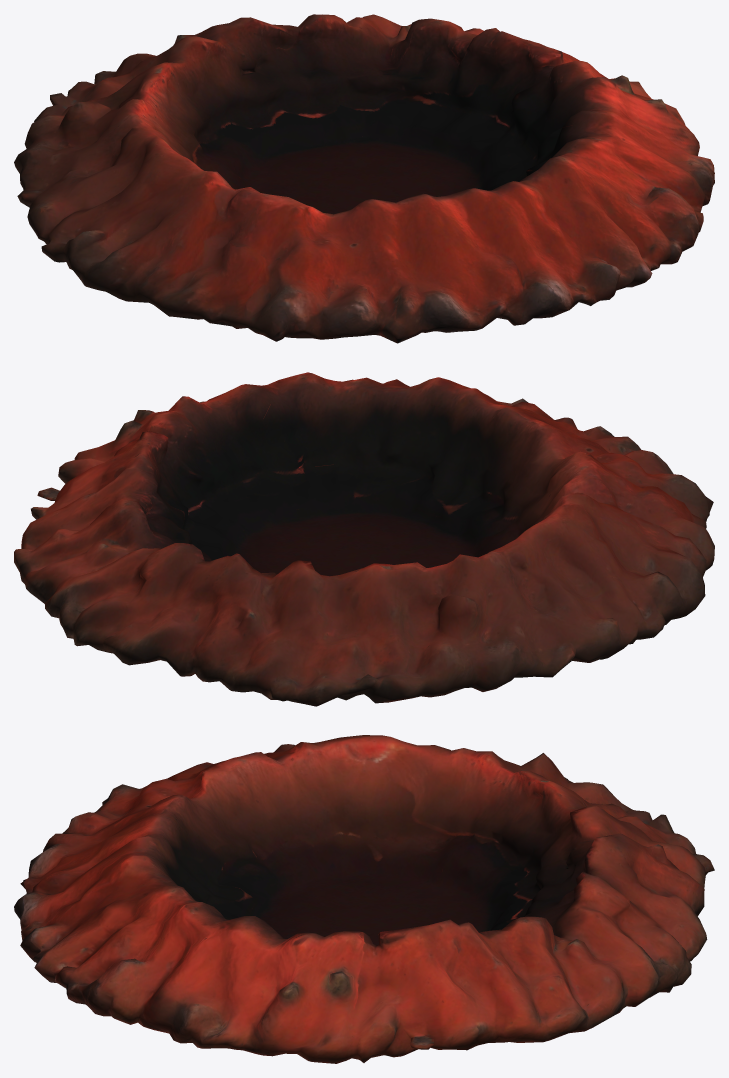
The model's file is crater1-BZu2kEgz.glb.
3 renders of one model, top to bottom at view 1: azimuth 30°, elevation 25°; view 2: azimuth 150°, elevation 25°; view 3: azimuth 270°, elevation 25°, orthographic.
Bounding box in the file's own units: 1.99 × 0.3108 × 1.99.
Materials: 1 (1 with a texture image).
